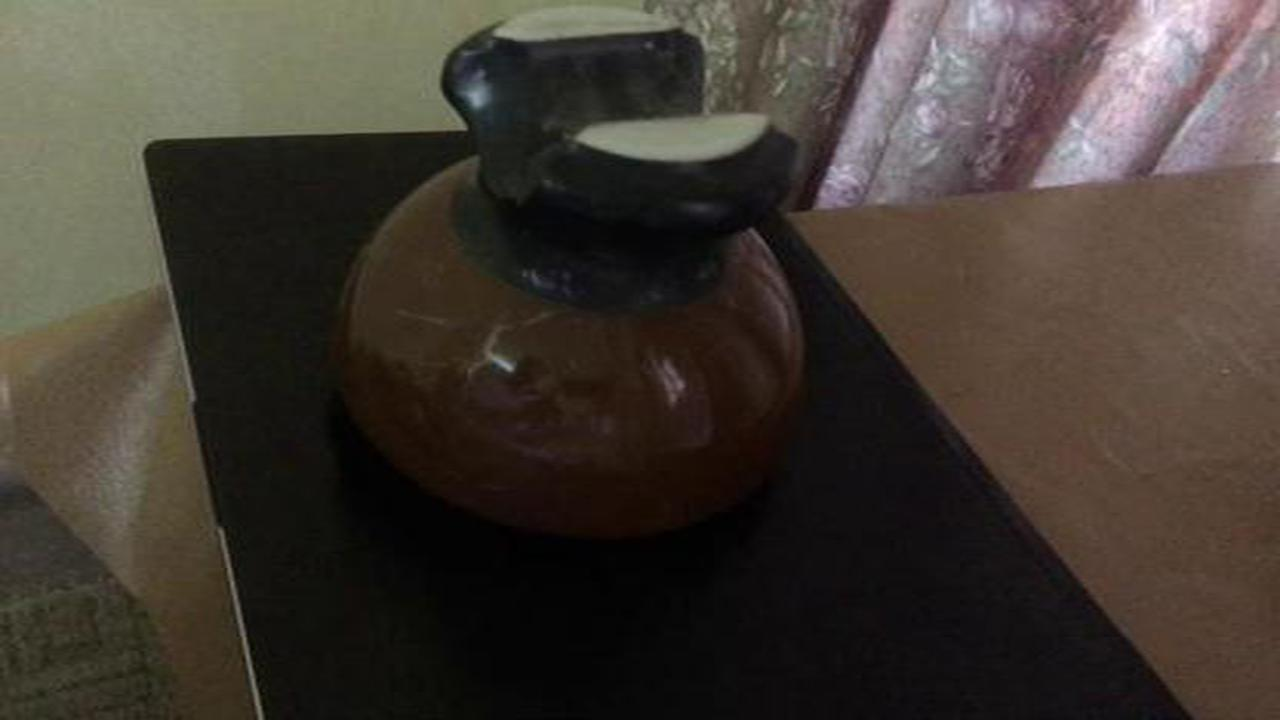insulator_pin: (308, 6, 825, 560)
